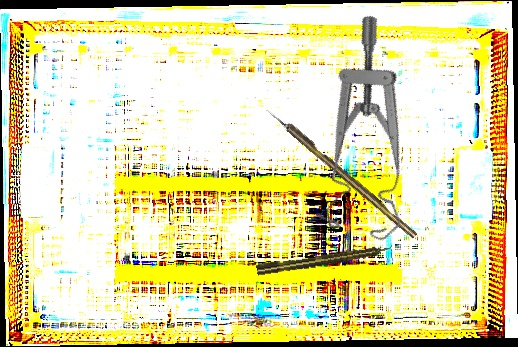Handpiece: (255, 242, 394, 277)
Hook Surgical: (264, 105, 419, 240)
Speculum: (276, 12, 475, 254)
